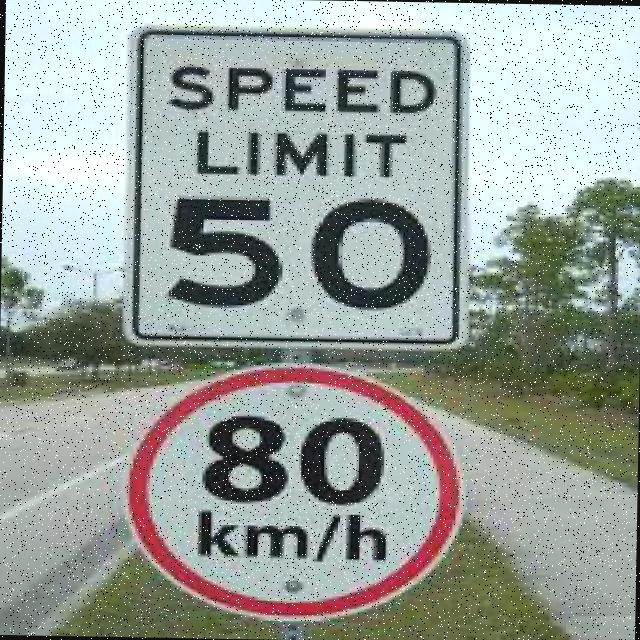Ograniczenie predkosci do 80: (123, 357, 474, 626)
